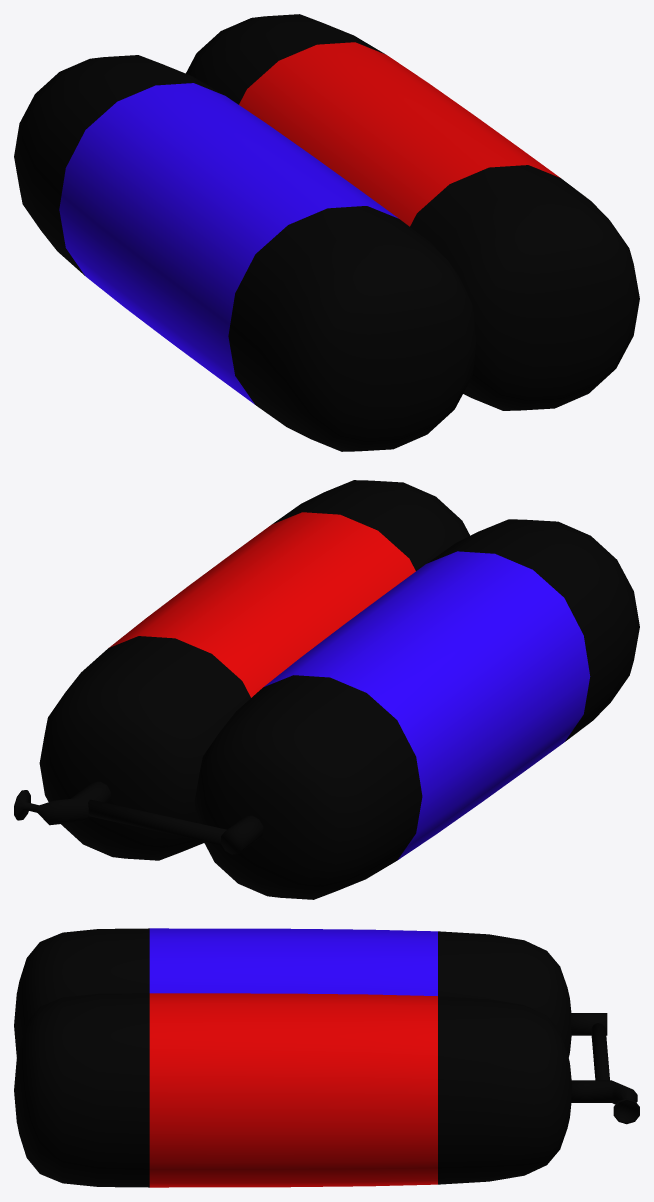
File: item-tank-twin.glb
3 renders of one model, top to bottom at view 1: azimuth 30°, elevation 25°; view 2: azimuth 150°, elevation 25°; view 3: azimuth 270°, elevation 25°, orthographic. The views are drawn at different scales.
Bounding box in the file's own units: 30.22 × 16.77 × 54.36.
